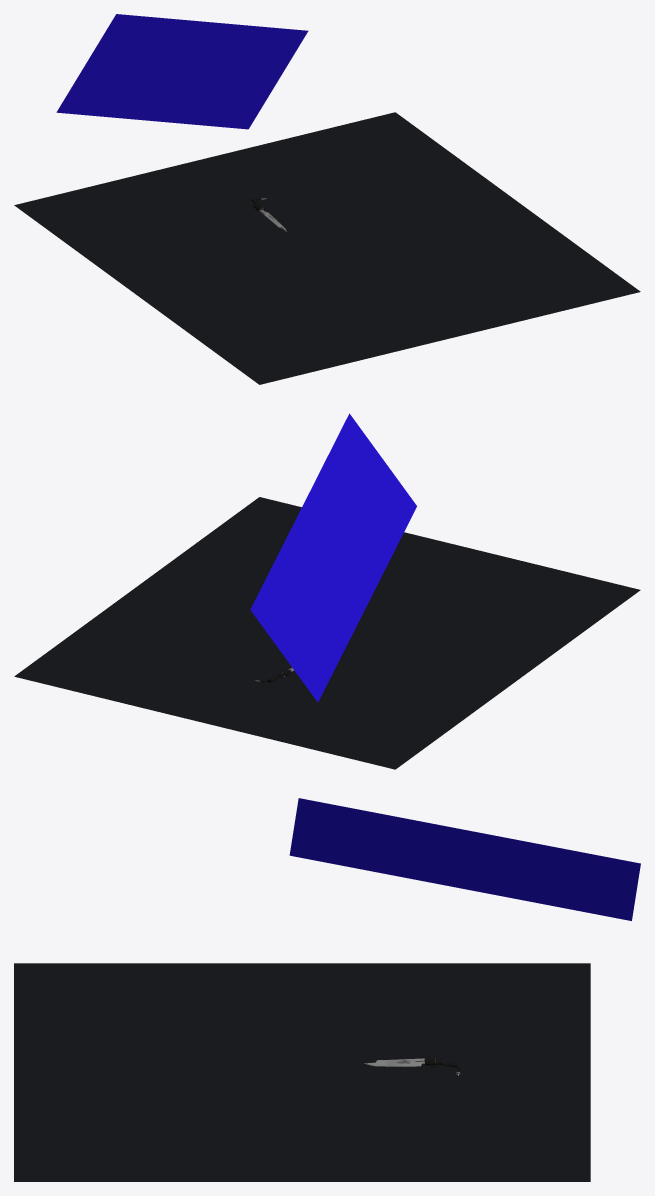
Rendered from gunblade.fbx.
3 renders of one model, top to bottom at view 1: azimuth 30°, elevation 25°; view 2: azimuth 150°, elevation 25°; view 3: azimuth 270°, elevation 25°, orthographic. The views are drawn at different scales.
Visible parts, largest first — view 1: Mesh_ncl1_1, Cube (5); view 2: Mesh_ncl1_1, Cube (5); view 3: Mesh_ncl1_1, Cube (5).
Boxes of the visible parts, x1,y1,x2,y2 form: Mesh_ncl1_1: (14, 112, 640, 384); Cube (5): (56, 14, 308, 129); Mesh_ncl1_1: (14, 497, 640, 769); Cube (5): (250, 413, 416, 702); Mesh_ncl1_1: (14, 963, 590, 1181); Cube (5): (289, 798, 640, 920).
Size of the model in its own units: 87000 by 48836 by 105466.
11 materials, 1 textured.
